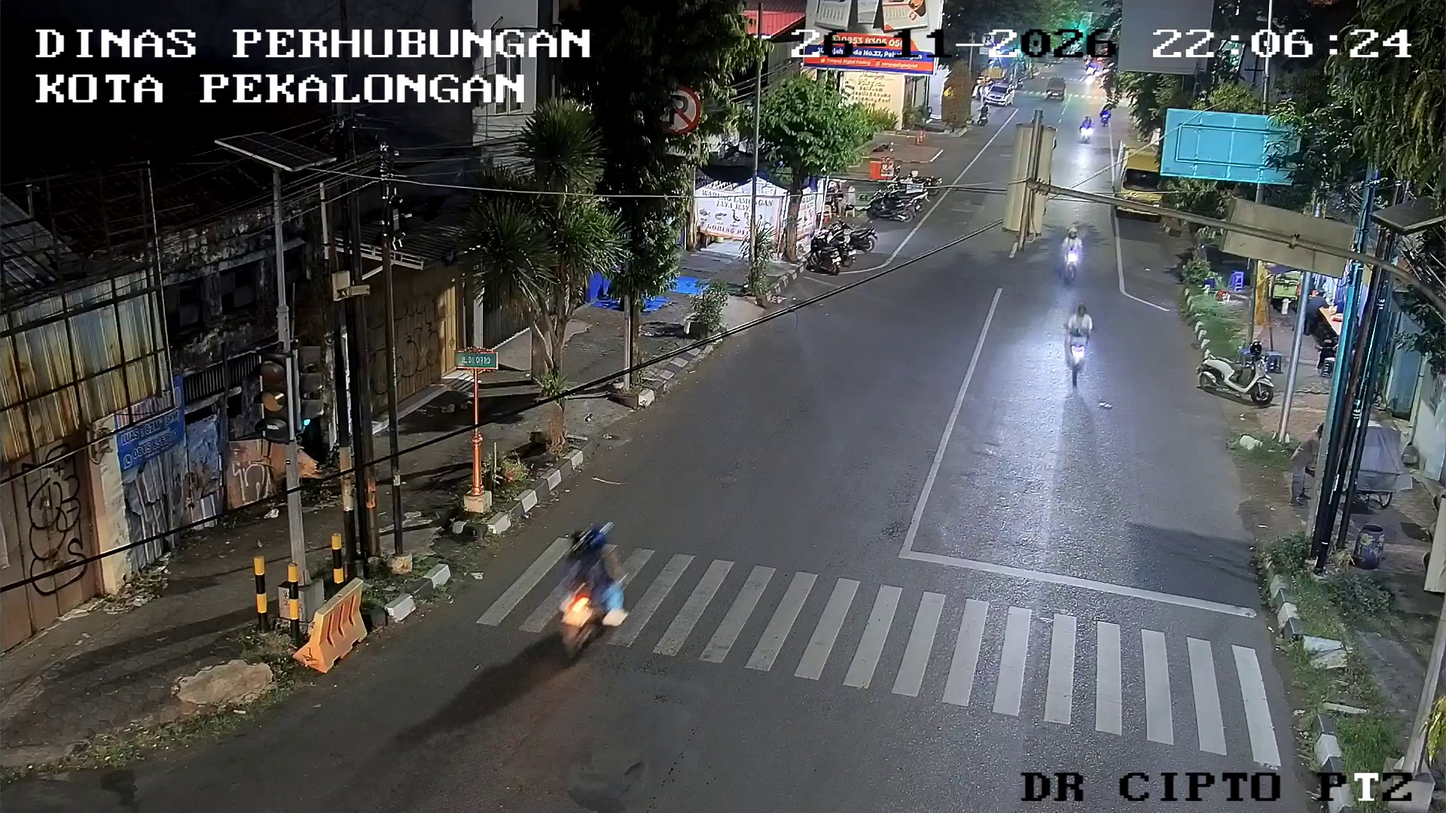Gerobak: (1338, 416, 1408, 507)
